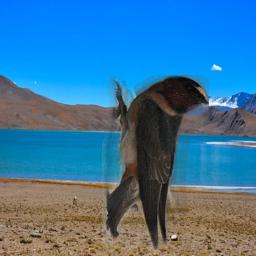Swallow: (102, 75, 209, 250)
